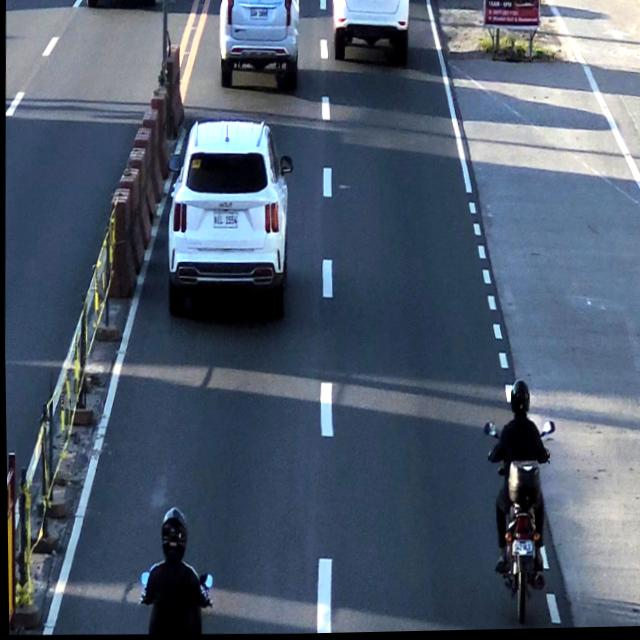Car: (167, 113, 284, 322), (212, 0, 302, 90), (330, 0, 417, 61)
License-Plate: (209, 206, 238, 233), (510, 539, 534, 559), (248, 5, 269, 20)
Motorcycle: (480, 375, 551, 632), (140, 513, 211, 636)
